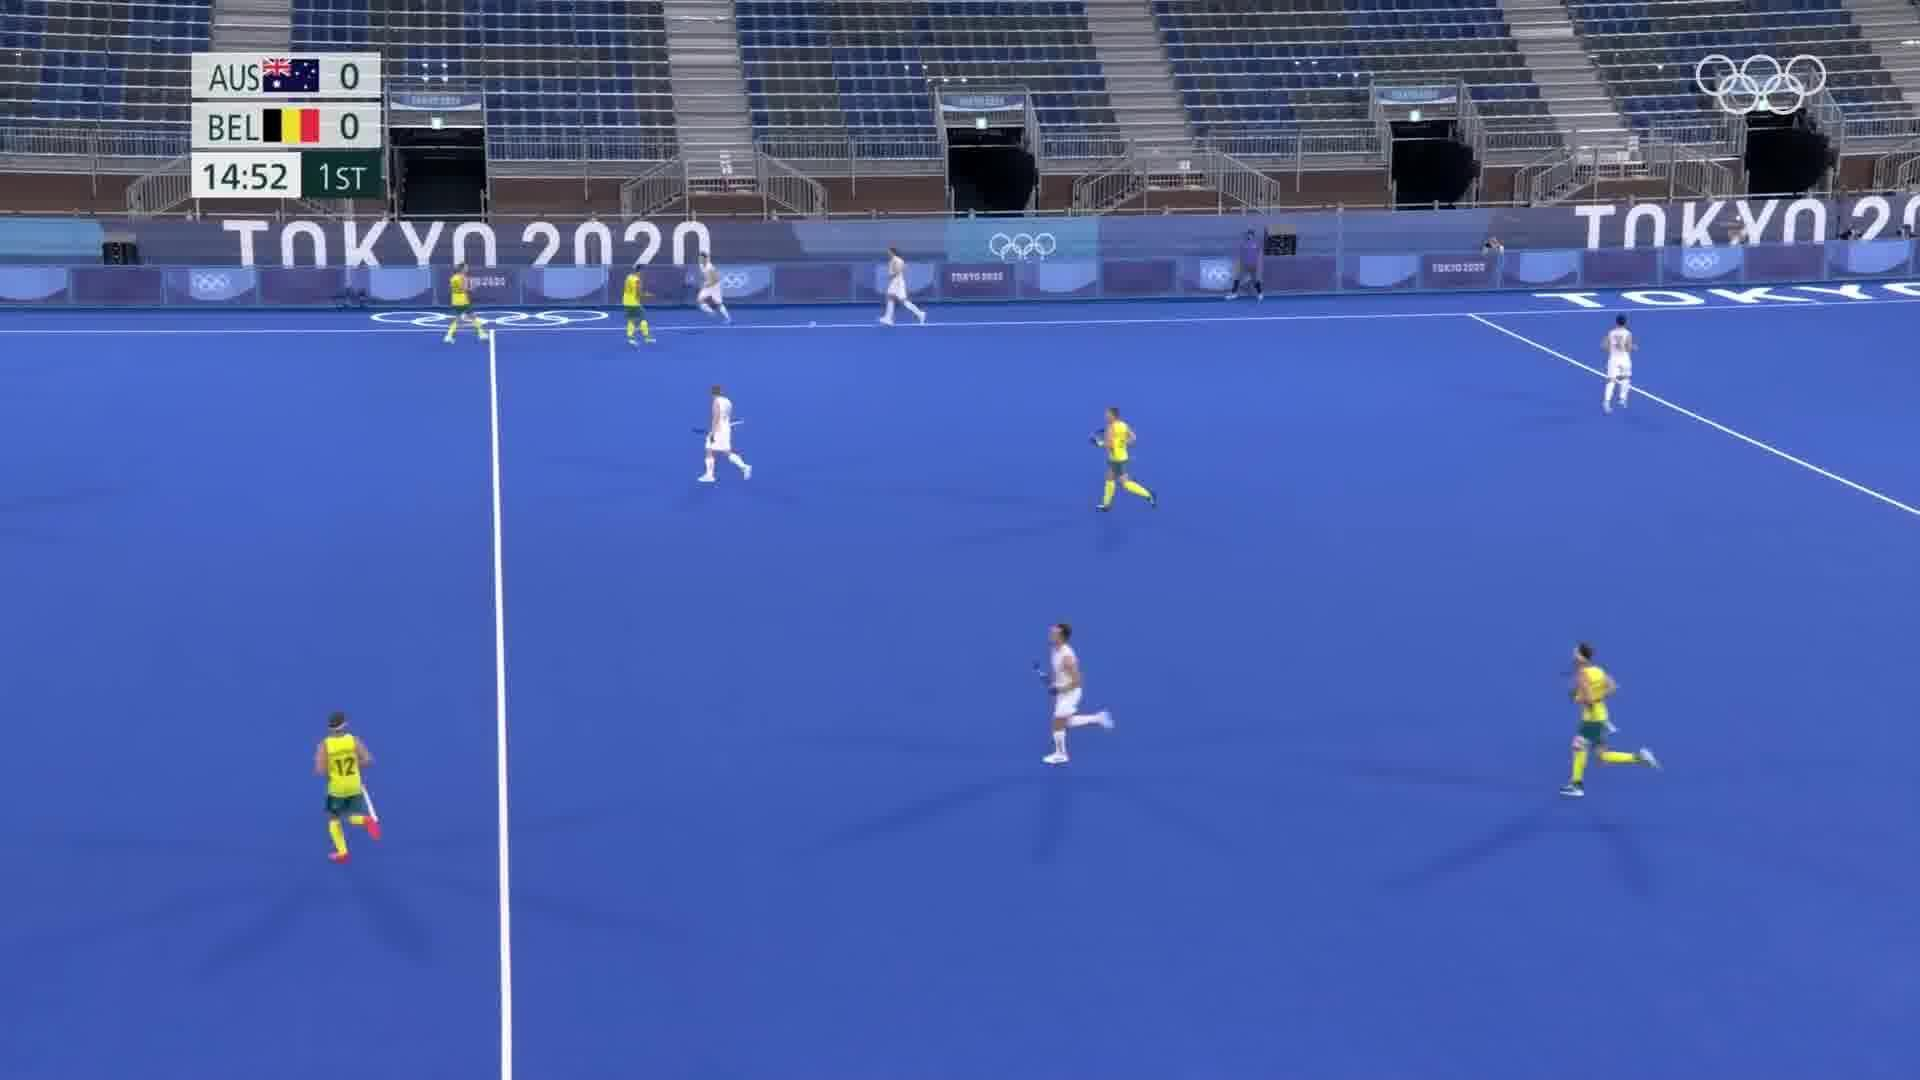ball: (800, 314, 820, 328)
